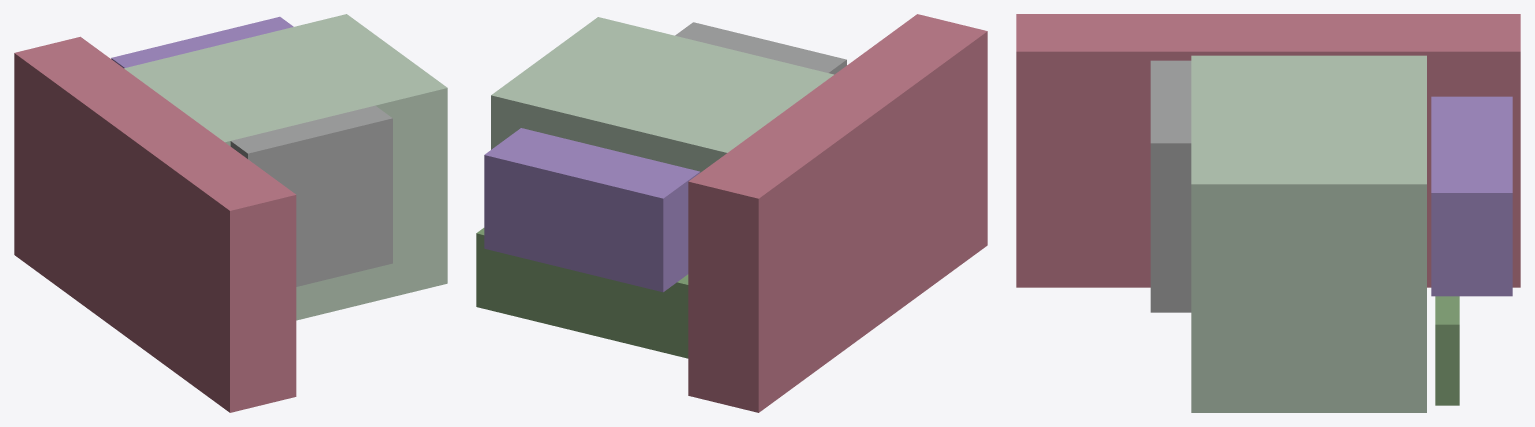
The picture shows the model from 3 angles, left to right: view 1: azimuth 30°, elevation 25°; view 2: azimuth 150°, elevation 25°; view 3: azimuth 270°, elevation 25°; orthographic projection. The views are drawn at different scales.
Parts seen in each view (by area): view 1: world; view 2: world; view 3: world.
Part boxes in pixels (box(x1,y1,x2,y2)): world: box(14, 14, 447, 412); world: box(476, 14, 987, 412); world: box(1016, 14, 1520, 412).
Bounding box in the file's own units: 4.85 × 3.2 × 6.2.
